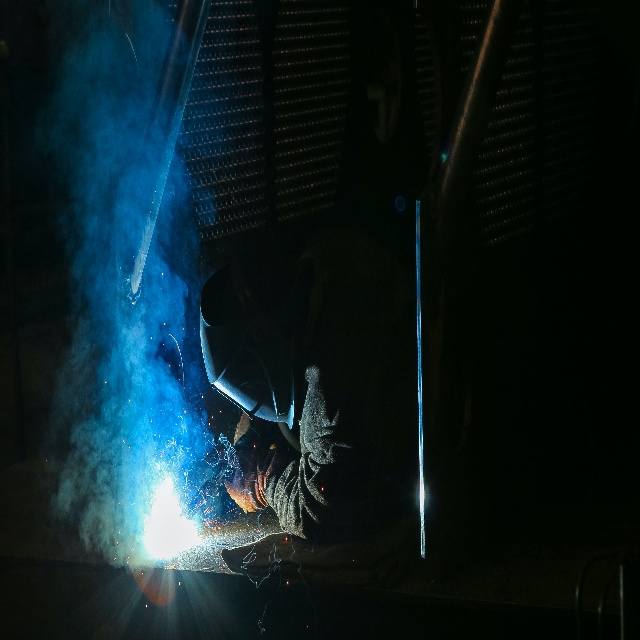Guantes: (224, 442, 277, 513)
